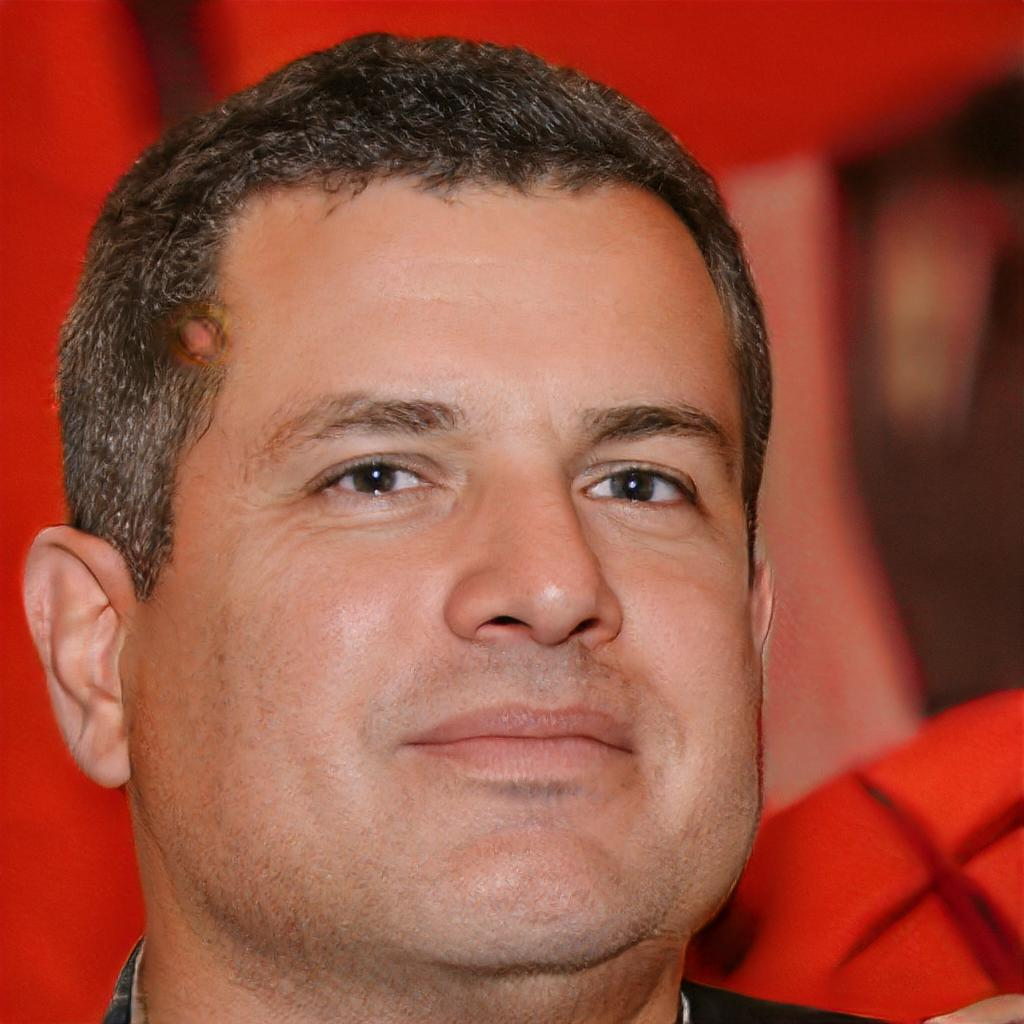face: (132, 180, 761, 965)
